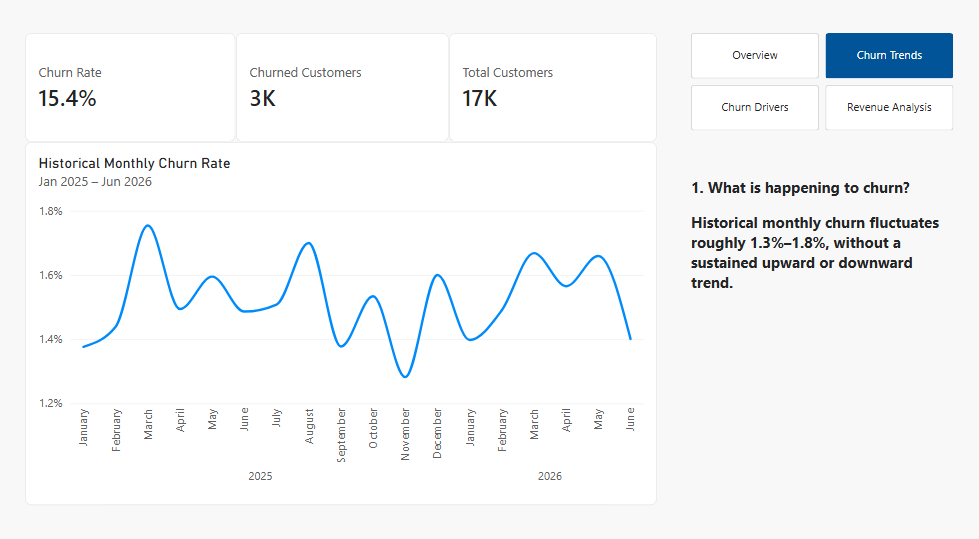

Layout of this report page (visuals, bound fields, positions):
{"tool":"powerbi","page":{"name":"Churn Trends","canvas":[1920,1080],"ordinal":1},"visuals":[{"type":"lineChart","title":"Historical Monthly Churn Rate","fields":{"Category":["Calendar_Lookup.Year","Calendar_Lookup.Month Name"],"Y":["subscriptions_clean.Monthly Churn Rate"]},"box":[160,203.8,790,453.8],"z":0},{"type":"cardVisual","fields":{"Data":["current_subscriptions.Current Churn Rate"]},"box":[160,67.5,263.8,136.2],"z":1000},{"type":"cardVisual","fields":{"Data":["current_subscriptions.Current Churned Customers"]},"box":[423.8,67.5,266.2,136.2],"z":2000},{"type":"cardVisual","fields":{"Data":["current_subscriptions.Current Total Customers"]},"box":[690,67.5,260,136.2],"z":3000},{"type":"textbox","box":[992.5,247.5,328.8,171.2],"z":4000},{"type":"pageNavigator","box":[992.5,67.5,328.8,122.5],"z":4001}]}

Visuals, with their boxes in screenshot pixels (x1, y1, x2, y2), scaled from the page's 1920x1080 canvas onto the 979x539 screenshot:
"Historical Monthly Churn Rate" lineChart: 82 102 484 328
cardVisual - current_subscriptions.Current Churn Rate: 82 34 216 102
cardVisual - current_subscriptions.Current Churned Customers: 216 34 352 102
cardVisual - current_subscriptions.Current Total Customers: 352 34 484 102
textbox: 506 124 674 209
pageNavigator: 506 34 674 95
